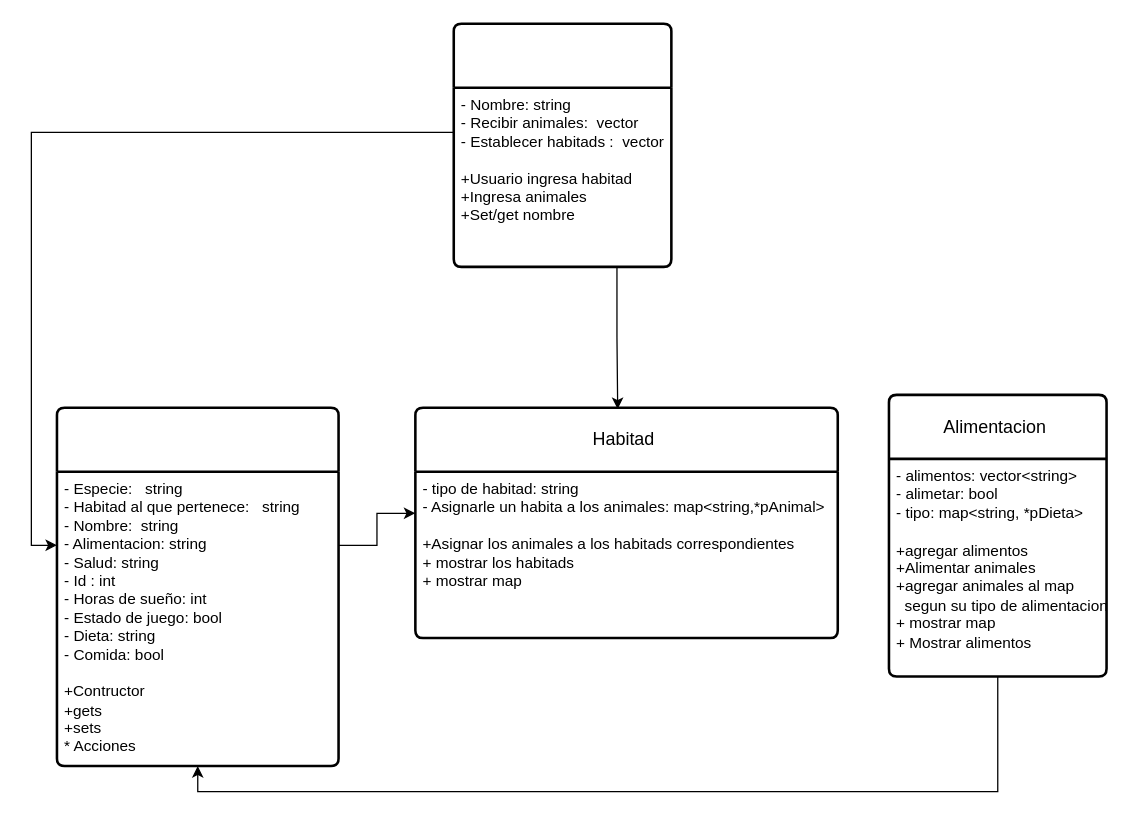
The diagram is 1130 pixels wide and 824 high, and some of its shapes have lost their labels. The box of each missing label's shape, as (x1, y1, x2, y2) in pixels:
Animales: (55, 406, 339, 767)
Zoologico: (452, 22, 672, 268)
